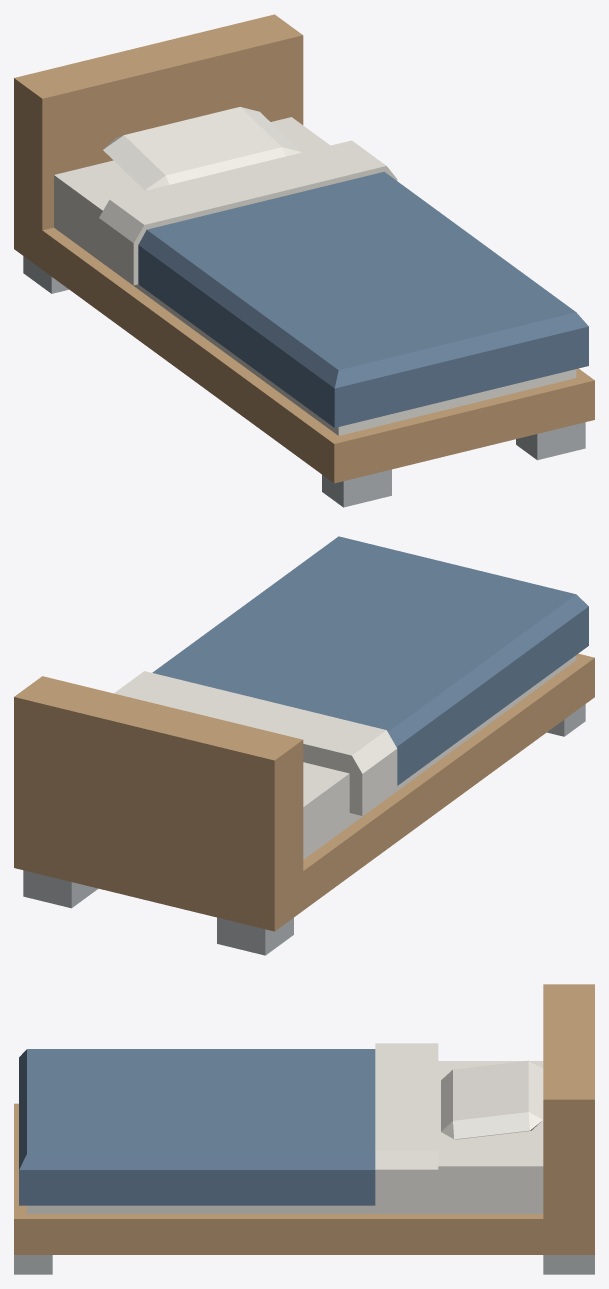
Rendered from bed-single.glb.
3 views of the same model, one above another, from view 1: azimuth 30°, elevation 25°; view 2: azimuth 150°, elevation 25°; view 3: azimuth 270°, elevation 25° (orthographic). The views are drawn at different scales.
Visible parts, largest first — view 1: bed-single; view 2: bed-single; view 3: bed-single.
Boxes of the visible parts, bbox=[...] form: bed-single: bbox=[14, 14, 594, 507]; bed-single: bbox=[14, 536, 594, 955]; bed-single: bbox=[14, 984, 594, 1274].
Bounding box in the file's own units: 0.95 × 0.68 × 2.
